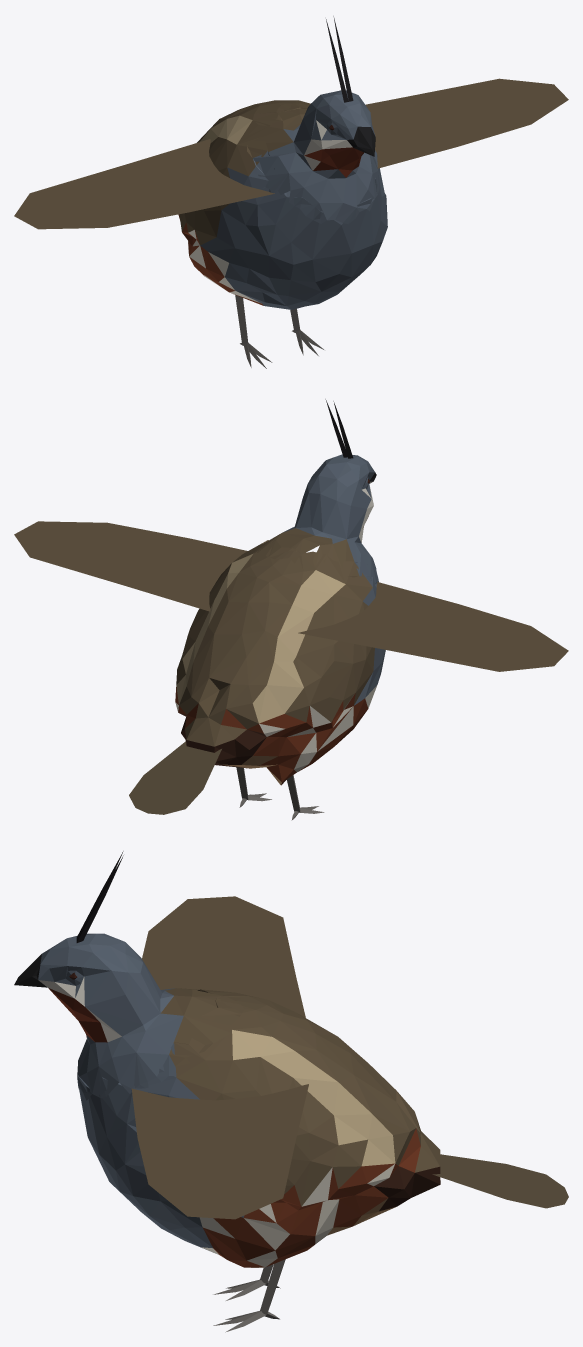
The model's file is mountain_quail.glb.
3 renders of one model, top to bottom at view 1: azimuth 30°, elevation 25°; view 2: azimuth 150°, elevation 25°; view 3: azimuth 270°, elevation 25°, orthographic. The views are drawn at different scales.
Parts seen in each view (by area): view 1: lod0; view 2: lod0; view 3: lod0.
Boxes of the visible parts, x1=… form: lod0: x1=14, y1=16, x2=568, y2=368; lod0: x1=14, y1=399, x2=568, y2=820; lod0: x1=14, y1=851, x2=568, y2=1332.
Size of what is drawn, in the model's own units: 0.3797 by 0.2515 by 0.2757.
